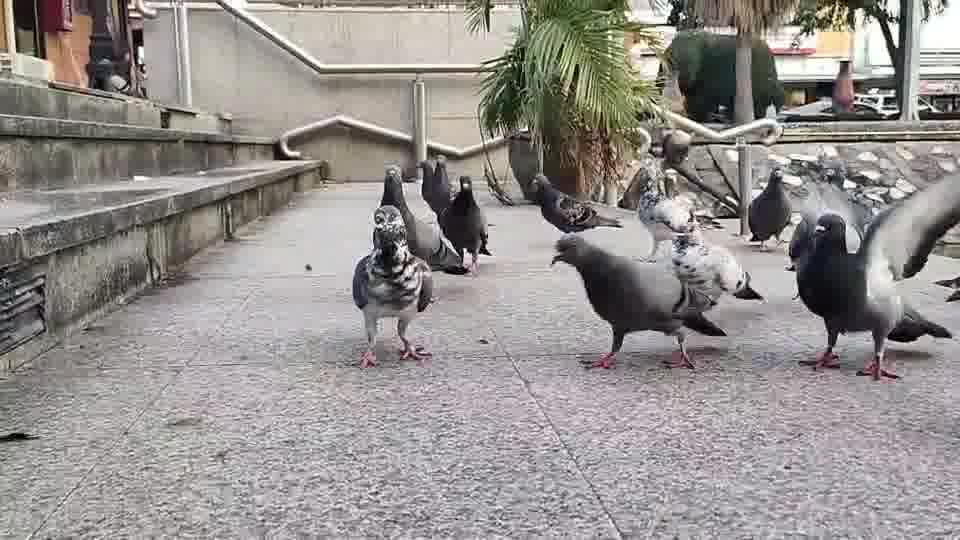Pigeon: (790, 170, 958, 381), (550, 232, 727, 370), (351, 204, 434, 369), (656, 202, 765, 306), (375, 165, 468, 274), (528, 172, 623, 234), (437, 175, 491, 274), (746, 166, 792, 251), (415, 156, 452, 218)
